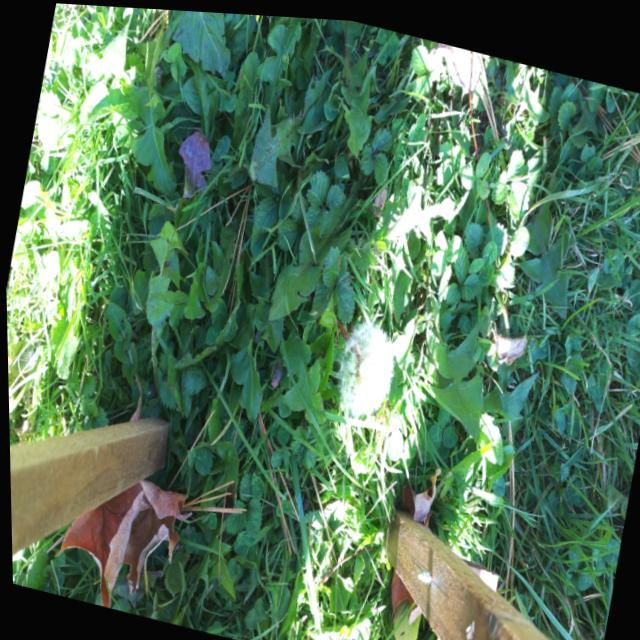base: (321, 300, 350, 336)
